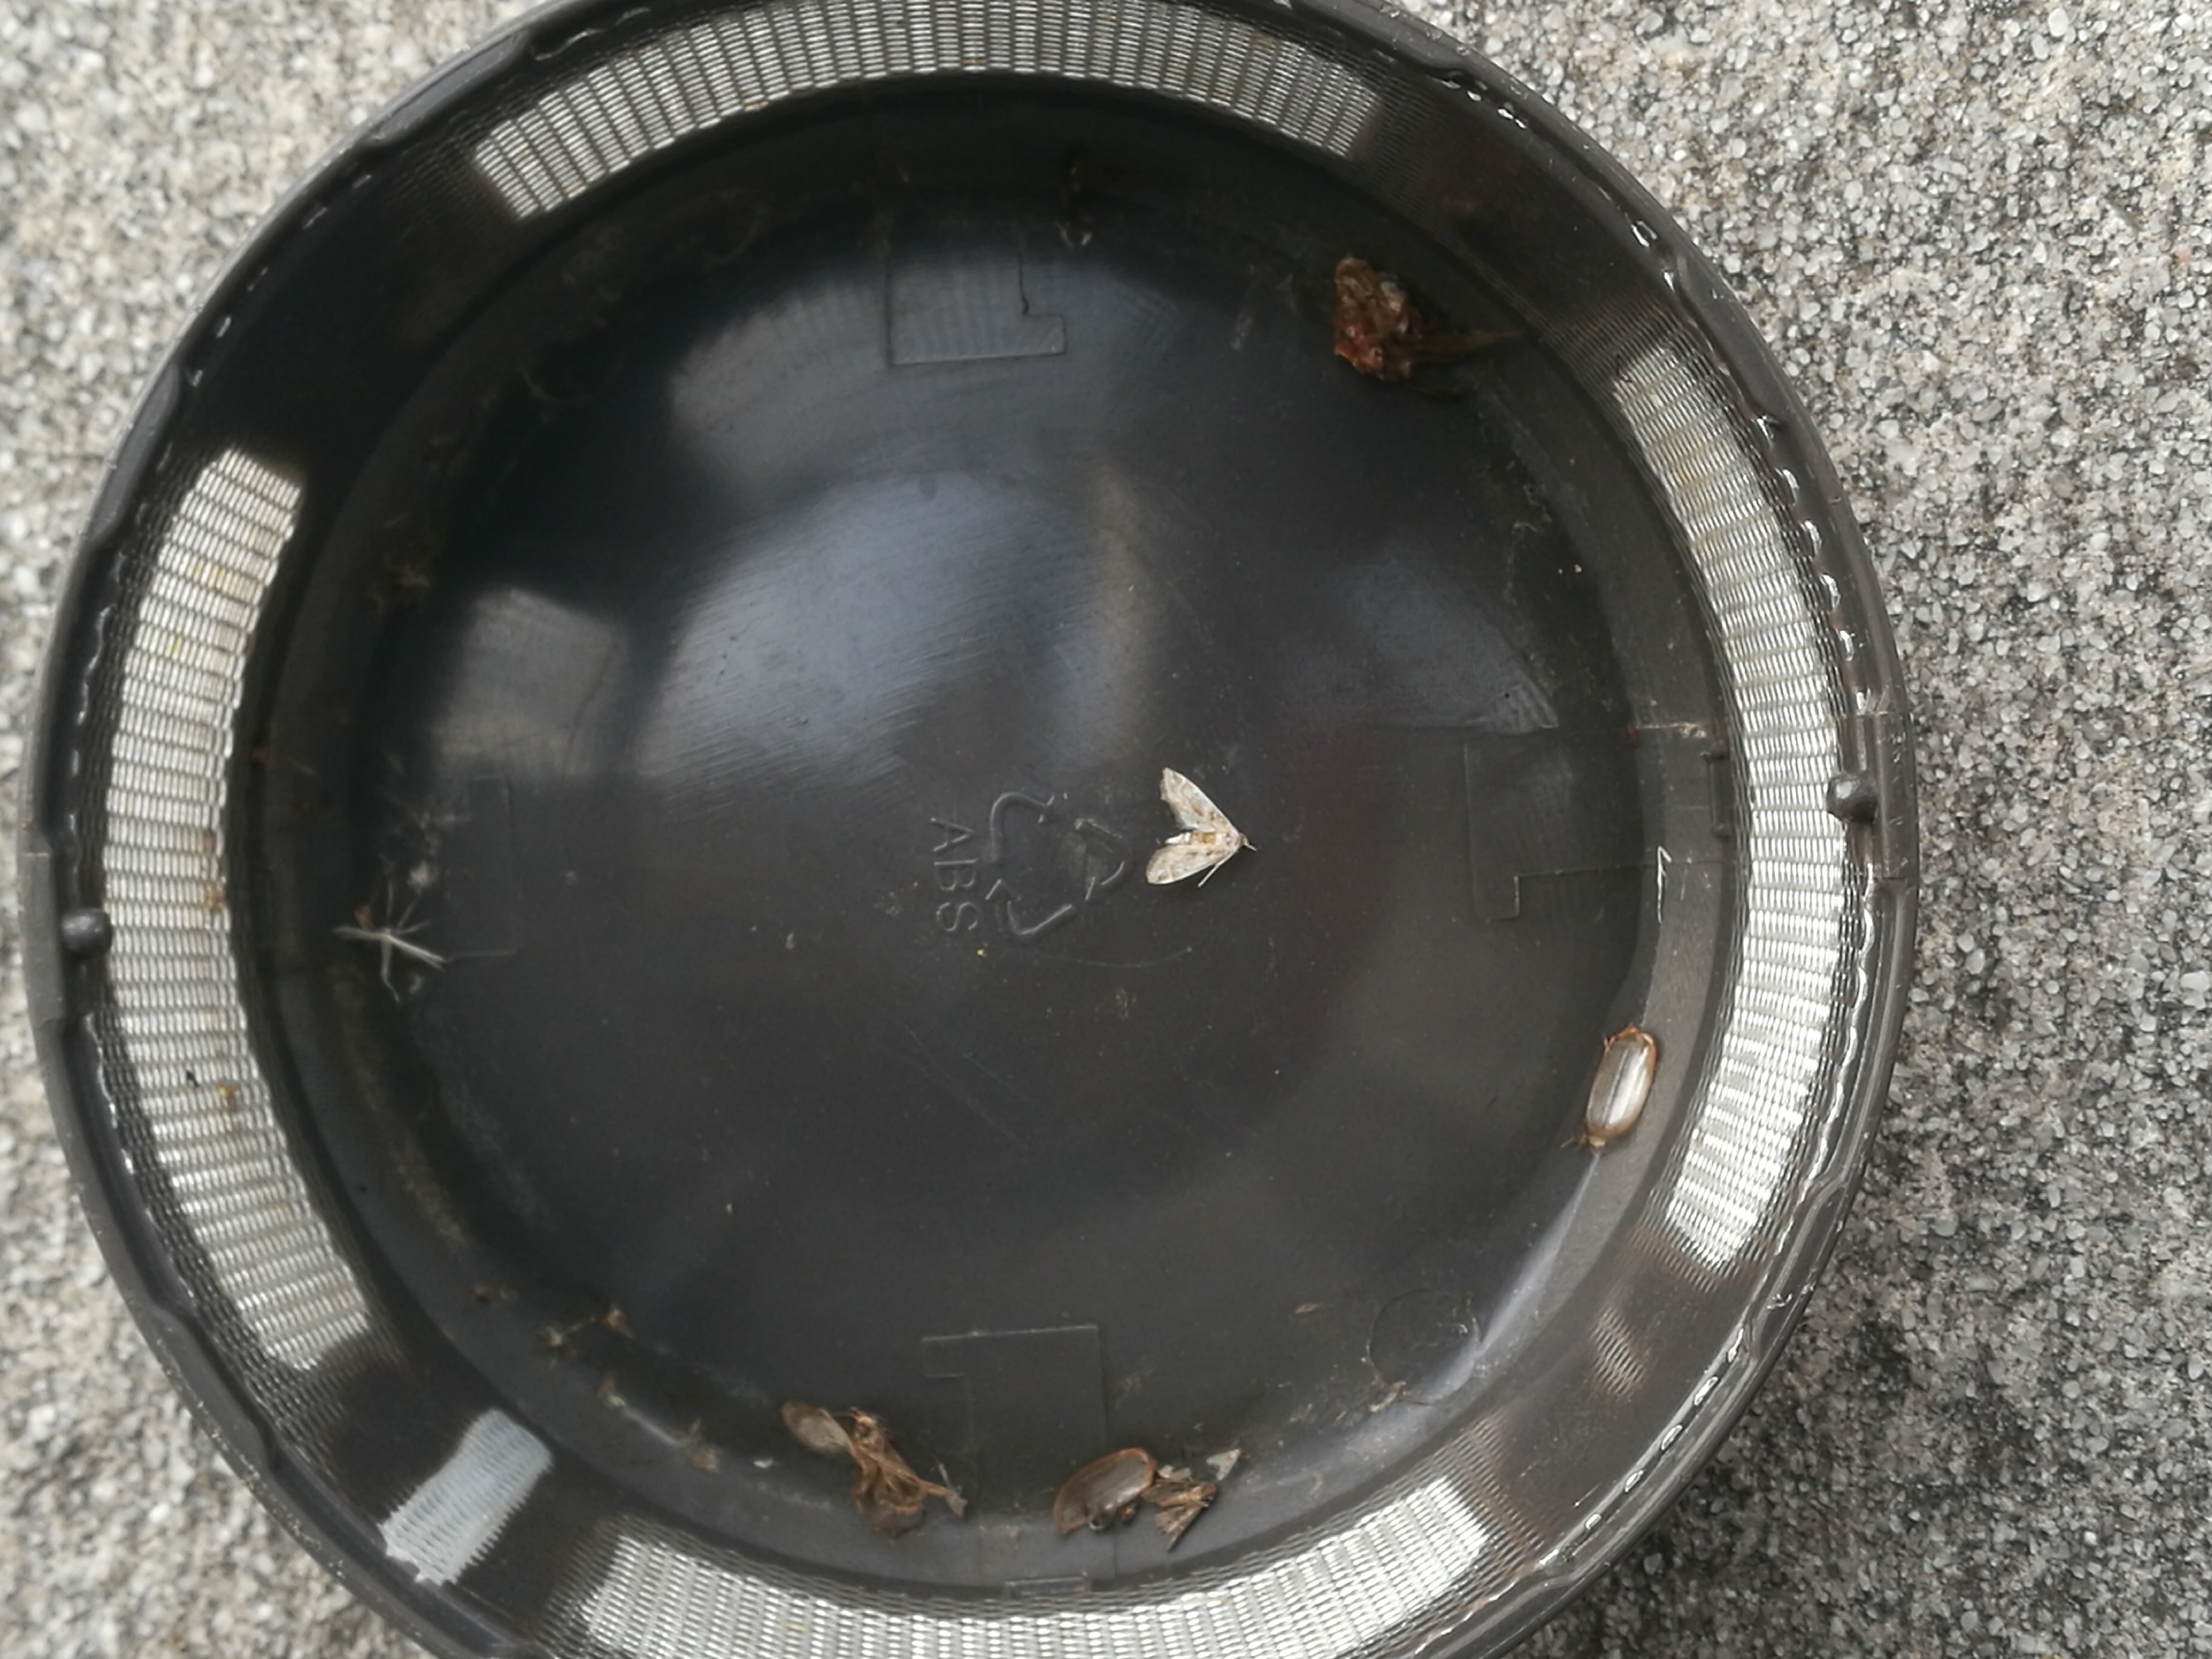mosquito: (1409, 328, 1508, 361)
moth: (1146, 769, 1249, 884), (1141, 1481, 1214, 1551), (1207, 1446, 1238, 1476)
